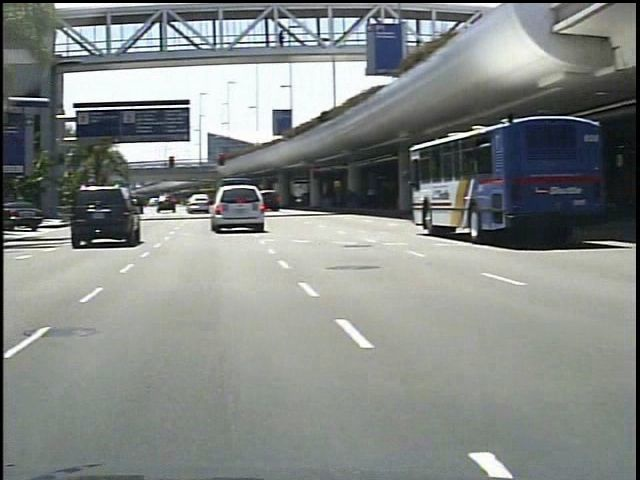person: (263, 29, 281, 54)
